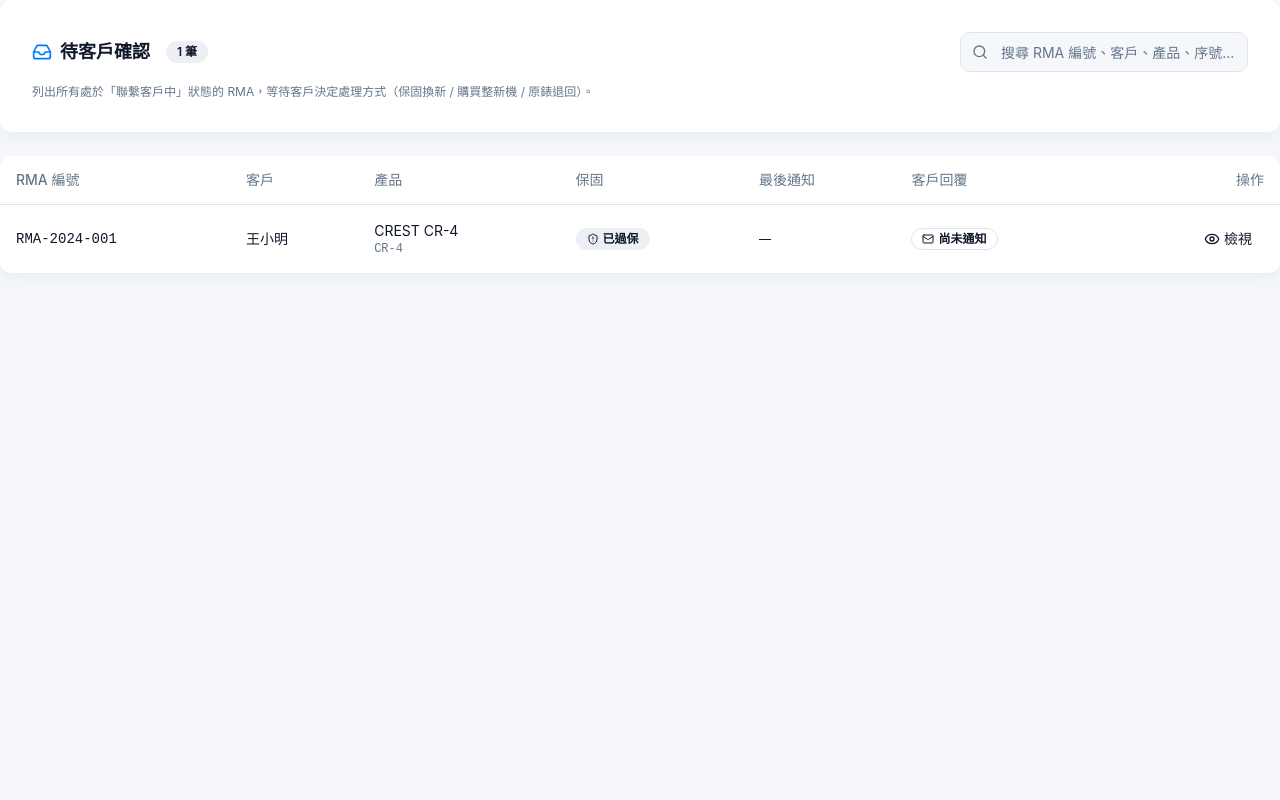
Test: AwaitingConfirmationTab - 對話框 › 選擇 purchase_a 後顯示金額欄位，預設值為 3680
Click the button "檢視".
click(1228, 238)  # box [1192,220,1264,256]
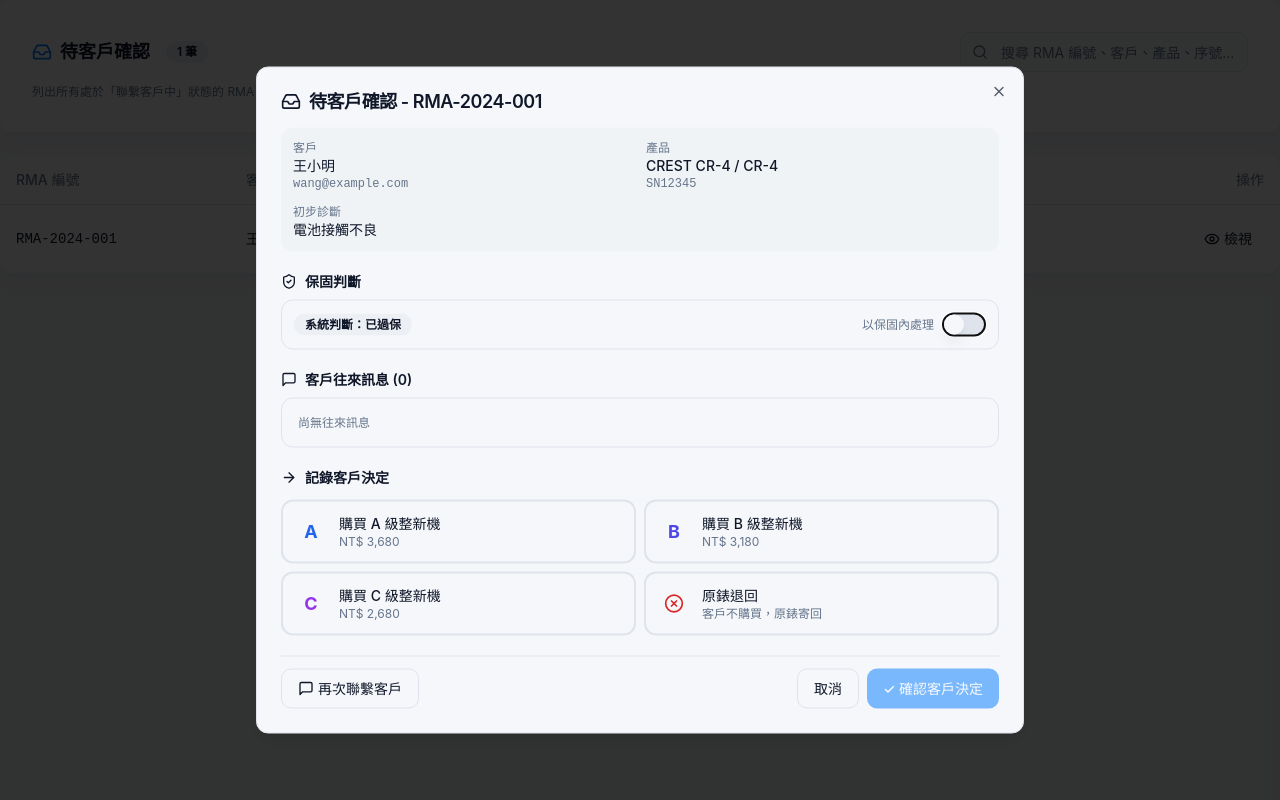
Result: the heading "待客戶確認 - RMA-2024-001" is shown at [281,90,542,112]
Click the text "購買 A 級整新機".
click(390, 523)  # box [339,514,440,532]
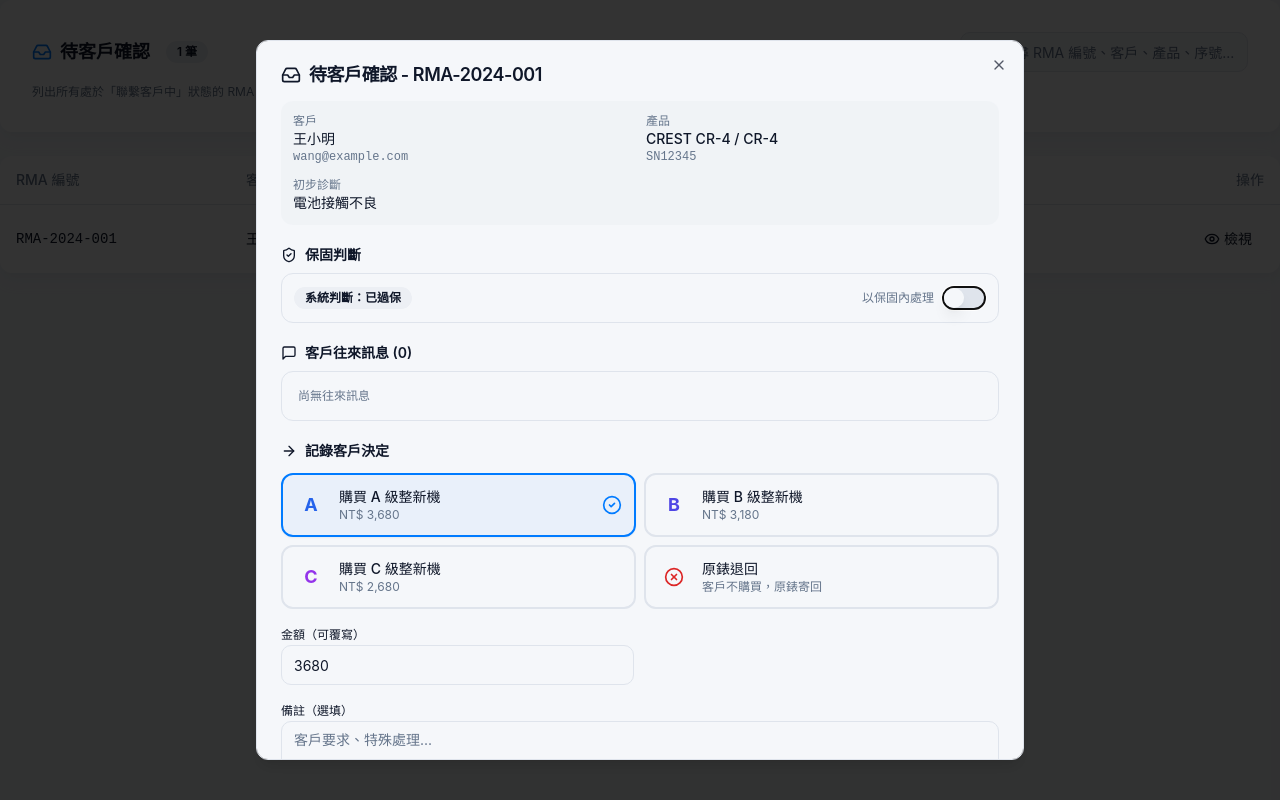
Result: the number field labelled "金額（可覆寫）" holds "3680" at [281,645,634,685]
